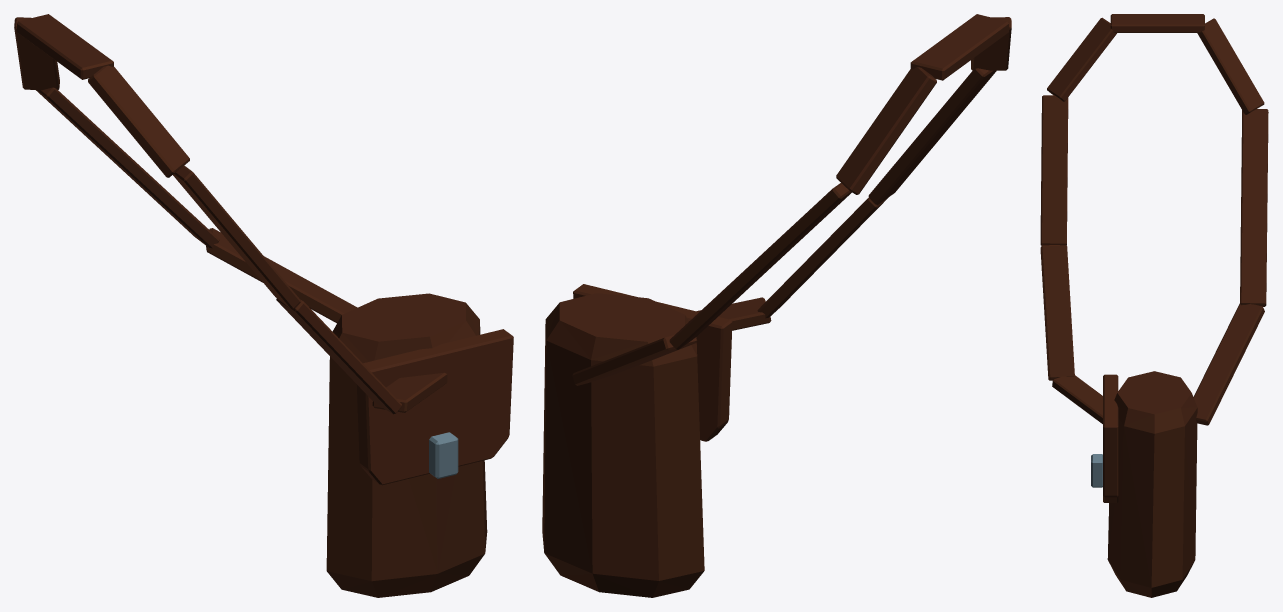
Rendered from EP_Accessory_FieldSatchel.fbx.
The picture shows the model from 3 angles, left to right: view 1: azimuth 30°, elevation 25°; view 2: azimuth 150°, elevation 25°; view 3: azimuth 270°, elevation 25°; orthographic projection. The views are drawn at different scales.
Visible parts, largest first — view 1: EP_Accessory_FieldSatchel; view 2: EP_Accessory_FieldSatchel; view 3: EP_Accessory_FieldSatchel.
Part boxes in pixels (x1,y1,x2,y2): EP_Accessory_FieldSatchel: (14, 14, 513, 597); EP_Accessory_FieldSatchel: (542, 14, 1011, 597); EP_Accessory_FieldSatchel: (1040, 14, 1268, 597).
Size of the model in its own units: 0.492 by 0.6625 by 0.3122.
